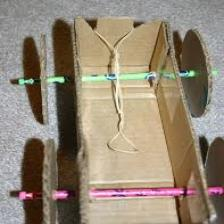cardboard: (9, 6, 224, 224)
